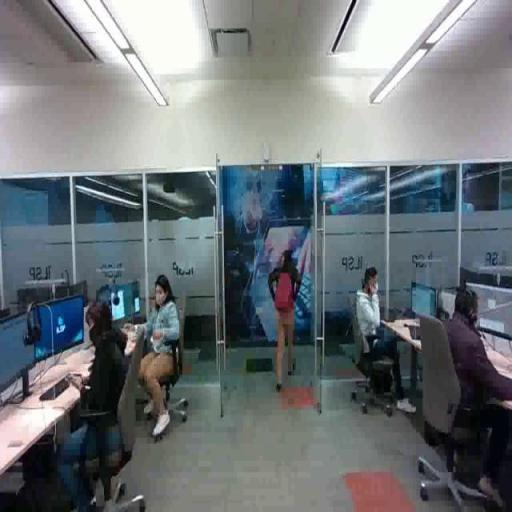person: (265, 245, 300, 391)
